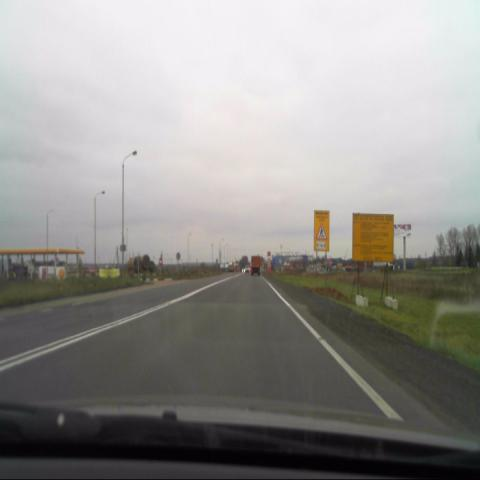1_22: (318, 223, 327, 239)
